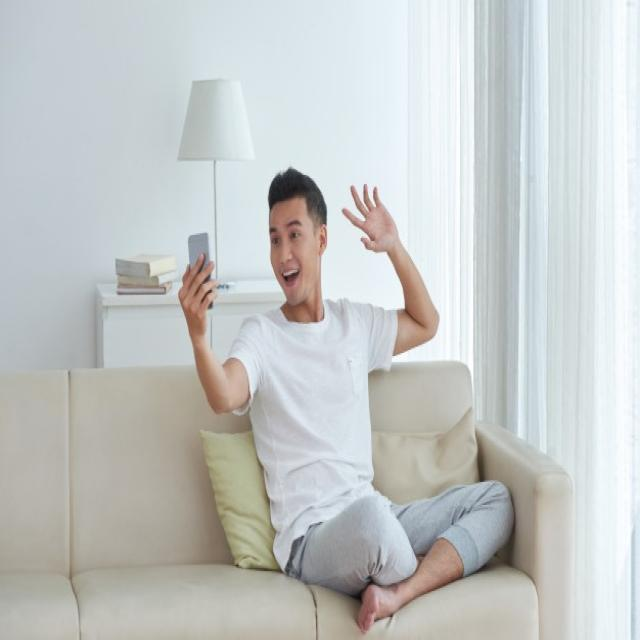sit: (230, 156, 488, 576)
